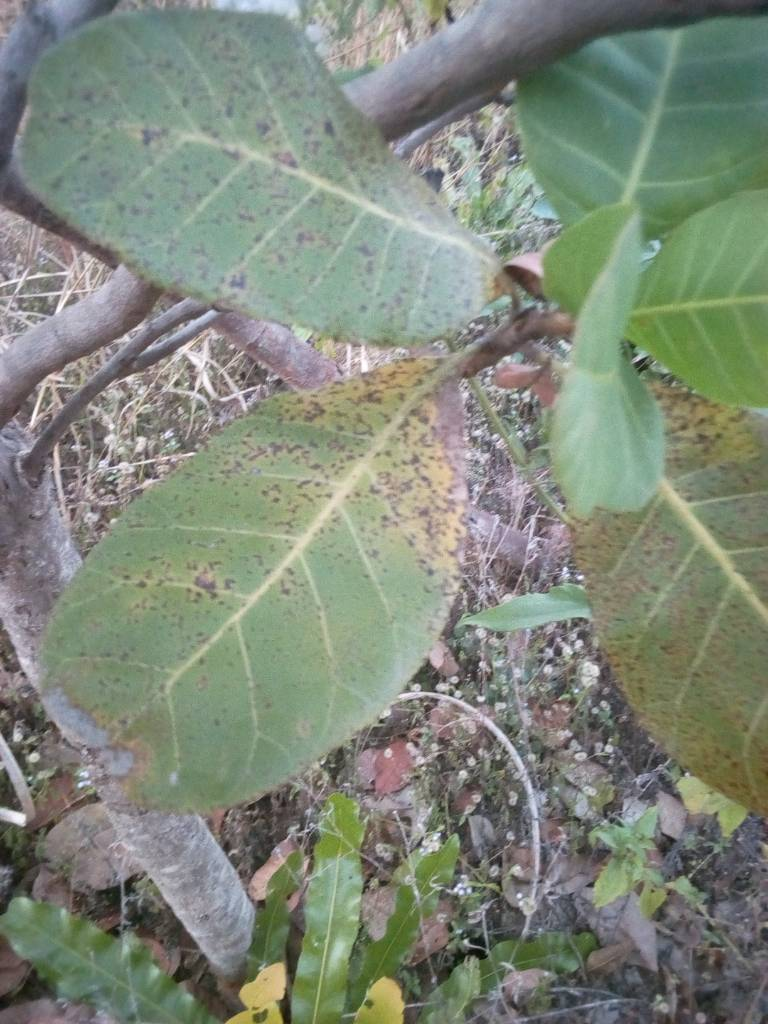Anthracnose: (57, 339, 480, 814), (16, 8, 488, 339), (525, 378, 765, 814)
